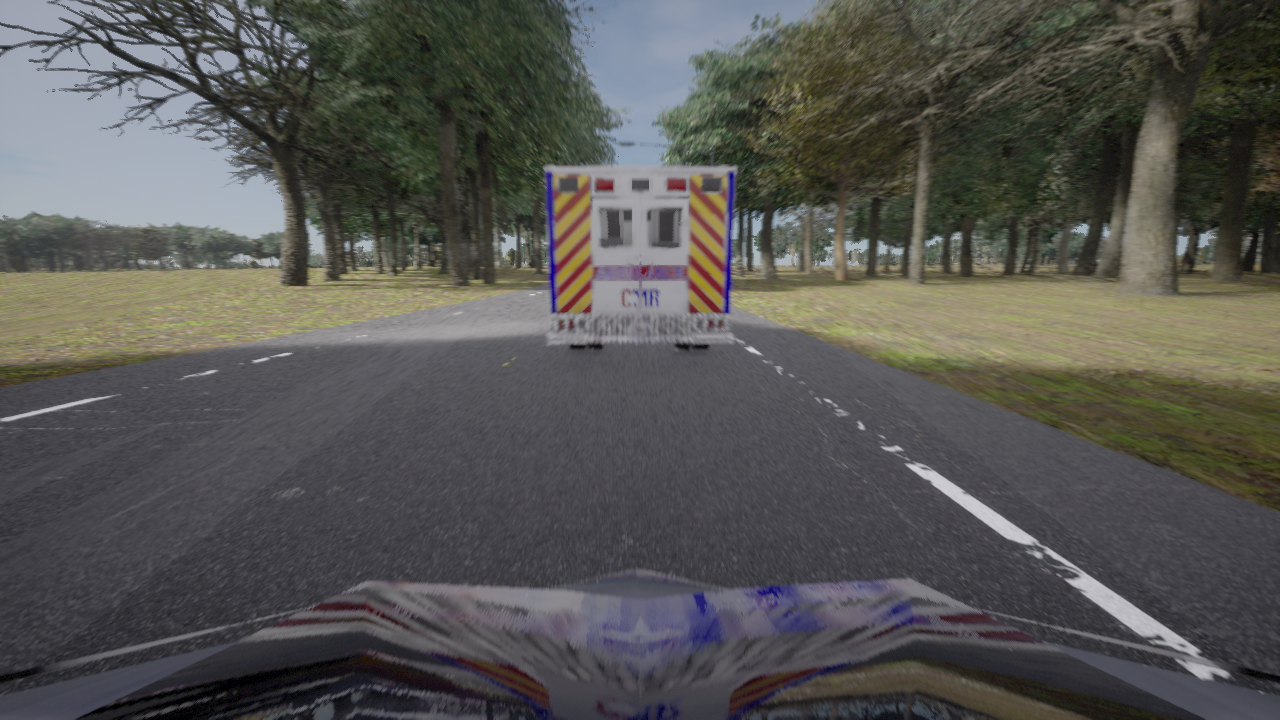cyclist: (0, 570, 1279, 719), (544, 167, 735, 350)
